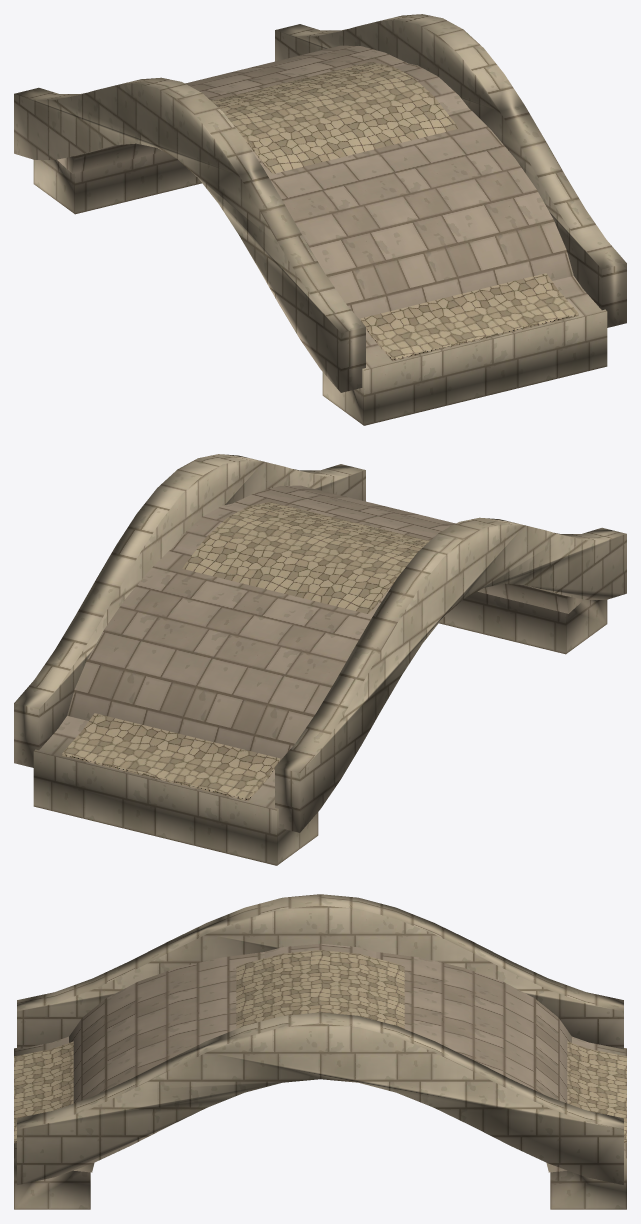
Rendered from bridge.stone.glb.
The picture shows the model from 3 angles, top to bottom: view 1: azimuth 30°, elevation 25°; view 2: azimuth 150°, elevation 25°; view 3: azimuth 270°, elevation 25°; orthographic projection. The views are drawn at different scales.
Visible parts, largest first — view 1: scenery.bridge.stone; view 2: scenery.bridge.stone; view 3: scenery.bridge.stone.
Boxes of the visible parts, bbox=[...] form: scenery.bridge.stone: bbox=[14, 14, 626, 425]; scenery.bridge.stone: bbox=[14, 454, 626, 865]; scenery.bridge.stone: bbox=[14, 894, 626, 1209].
Size of the model in its own units: 4 by 2.82 by 8.
2 materials, 2 textured.
